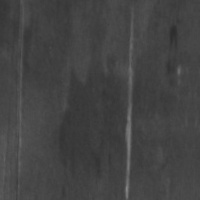scratches: (8, 0, 33, 173), (118, 18, 141, 199)
